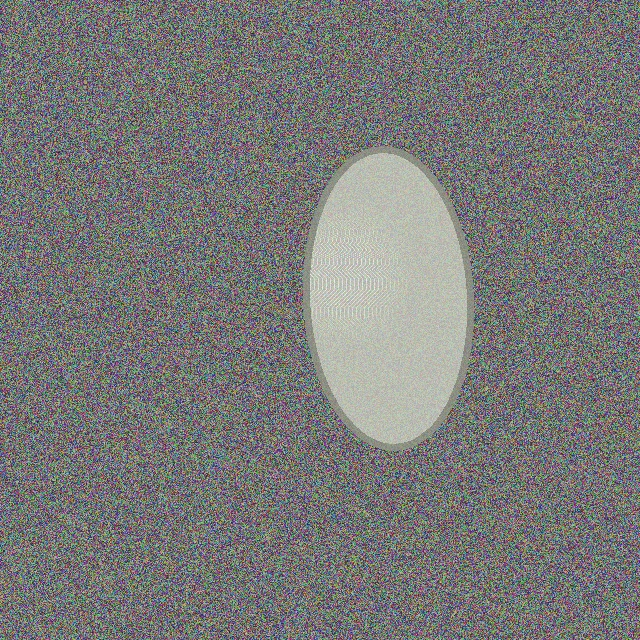lens: (306, 149, 470, 447)
